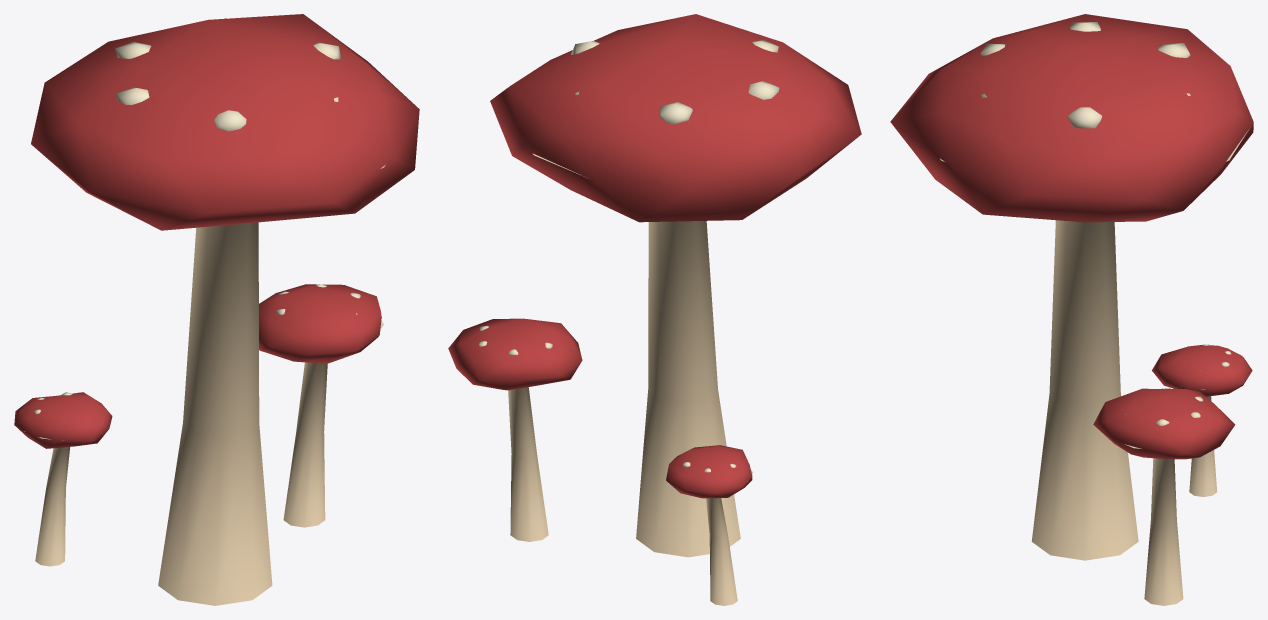
Rendered from giant_mushroom.glb.
3 views of the same model, side by side, from view 1: azimuth 30°, elevation 25°; view 2: azimuth 150°, elevation 25°; view 3: azimuth 270°, elevation 25° (orthographic). The views are drawn at different scales.
Parts seen in each view (by area): view 1: stem0; view 2: stem0; view 3: stem0.
Boxes of the visible parts, <box> form: stem0: <box>14,14,419,605</box>; stem0: <box>448,14,861,605</box>; stem0: <box>890,14,1253,605</box>.
Size of the model in its own units: 2.51 by 3.48 by 2.31.
